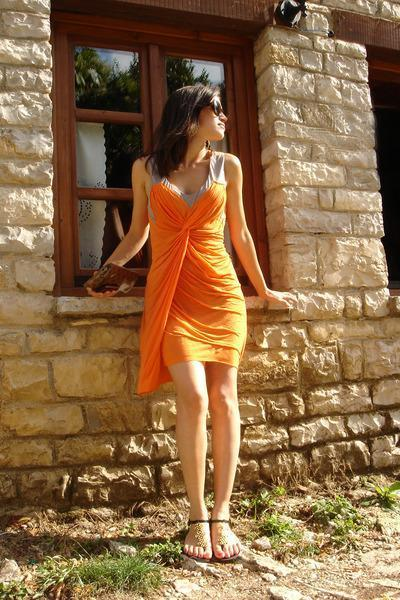dress: (138, 183, 275, 392)
shoe: (172, 492, 230, 556)
